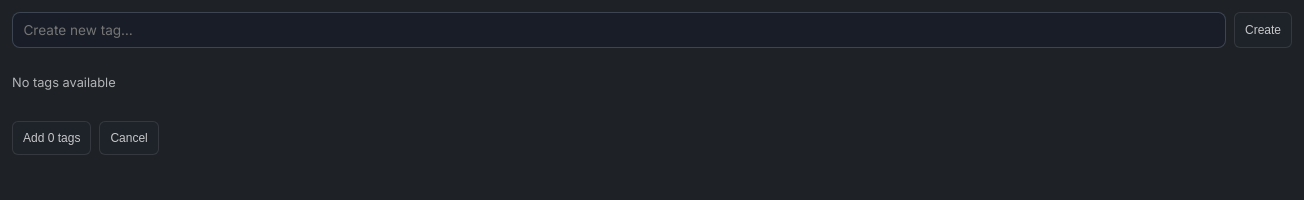
Test: BulkTagSelector › shows an error when tag creation fails
This screenshot has width=1304, height=200.
Type "Dup" into the field named "New tag name" at (619, 30), box [12,12,1226,48]
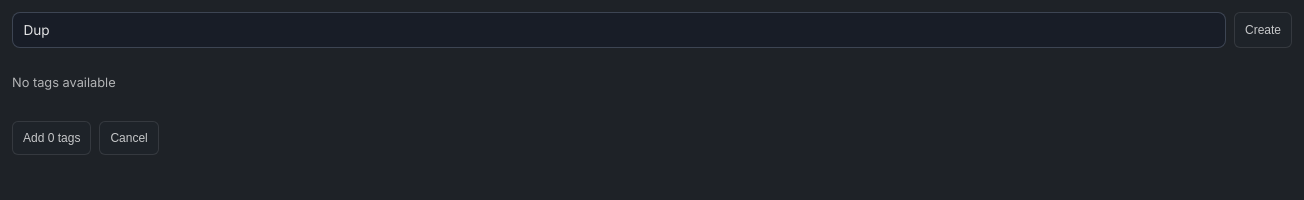
Click the button "Create" at (1263, 30), box [1234,12,1292,48]
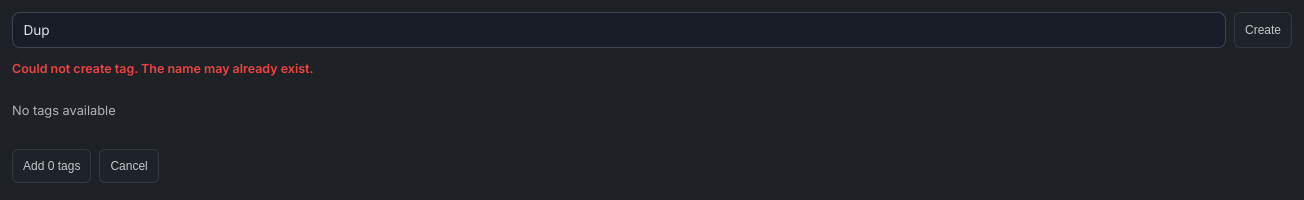
Expected: the text "Could not create tag. The name may already exist." is shown, [12,61,313,76]
